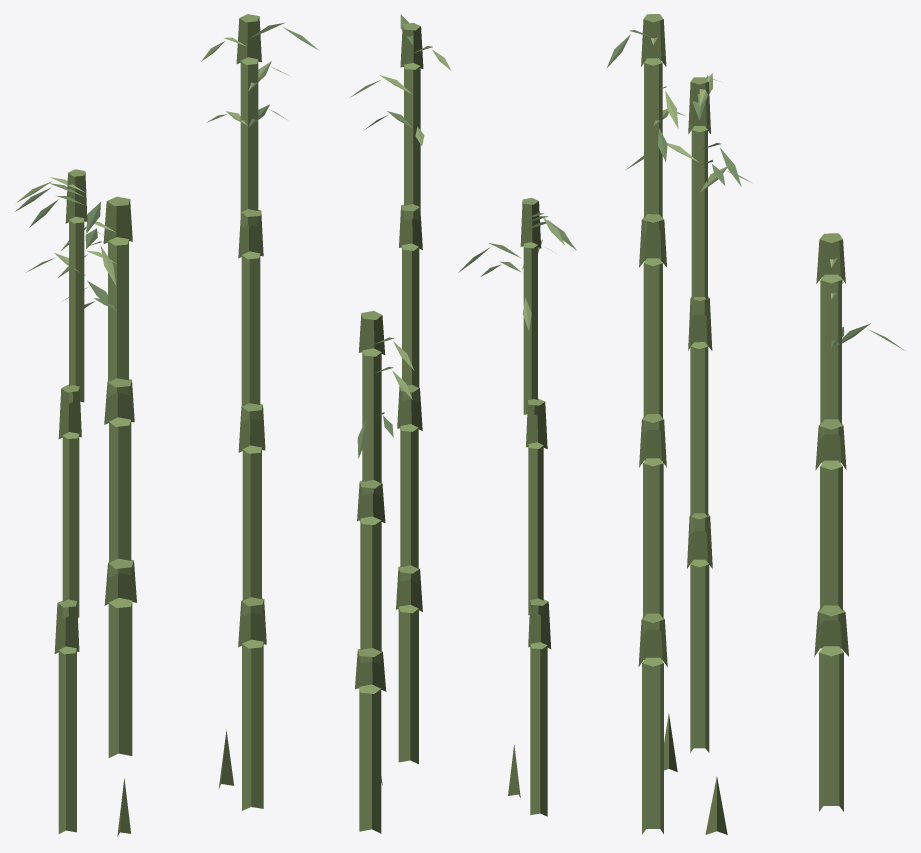
File: shu.maozhu__summer.glb
The picture shows the model from 3 angles, left to right: view 1: azimuth 30°, elevation 25°; view 2: azimuth 150°, elevation 25°; view 3: azimuth 270°, elevation 25°; orthographic projection. The views are drawn at different scales.
Parts seen in each view (by area): view 1: shu.maozhu__summer; view 2: shu.maozhu__summer; view 3: shu.maozhu__summer.
Part boxes in pixels (<box>): shu.maozhu__summer: <box>15,14,319,836</box>; shu.maozhu__summer: <box>350,14,576,833</box>; shu.maozhu__summer: <box>606,14,904,834</box>.
Size of the model in its own units: 3.12 by 9.07 by 3.03.
